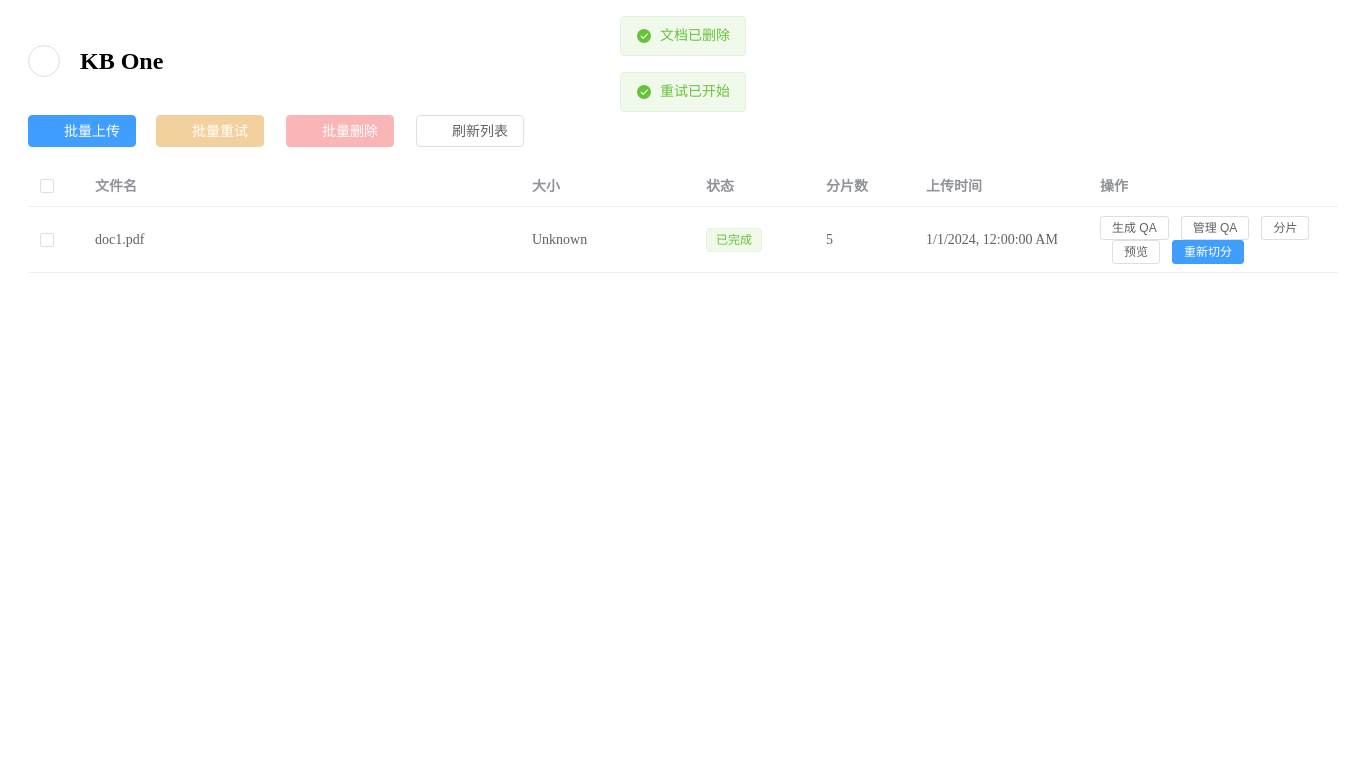
Test case: KnowledgeBaseDetail.vue › views QA pairs for a document
This screenshot has width=1366, height=768.
Click the button "管理 QA".
click(1215, 228)  # box [1181,216,1249,240]
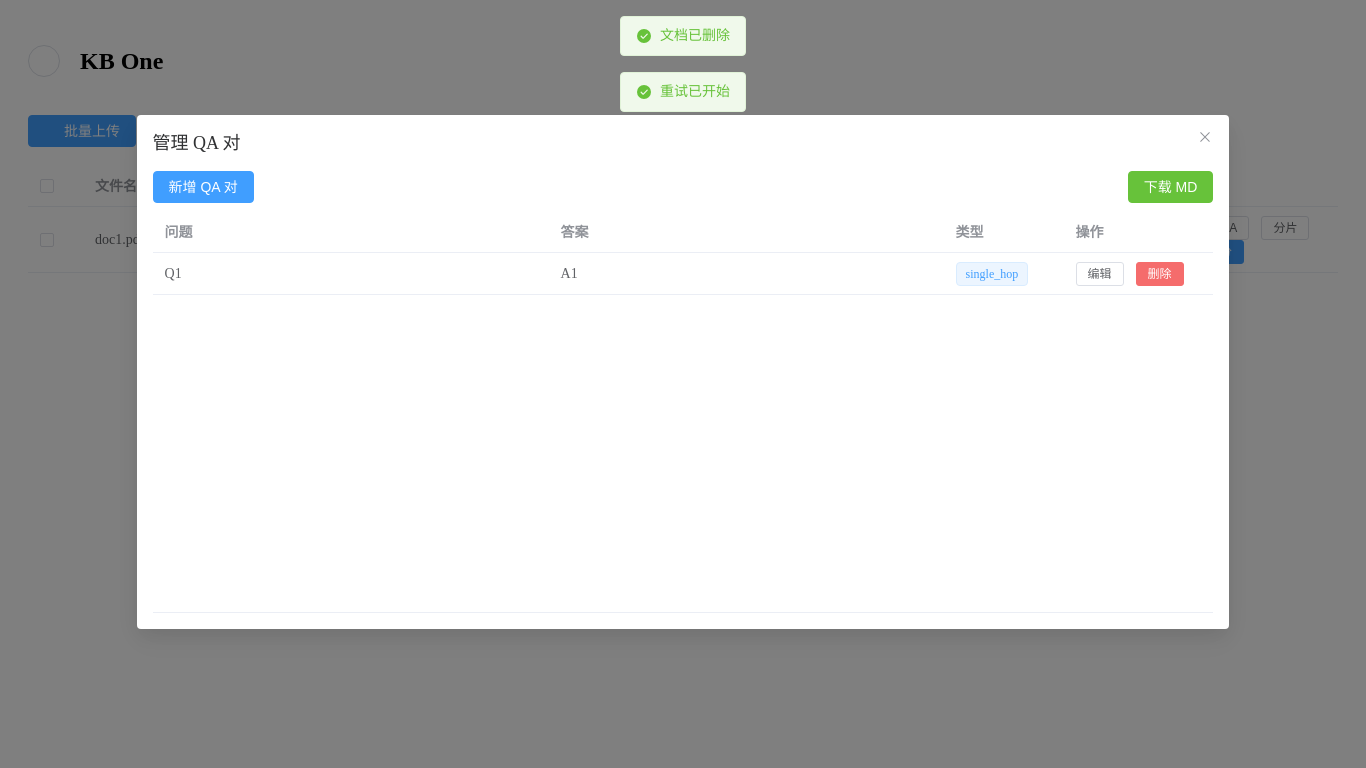
Check: the text "Q1" is shown, box [165,266,182,281]
